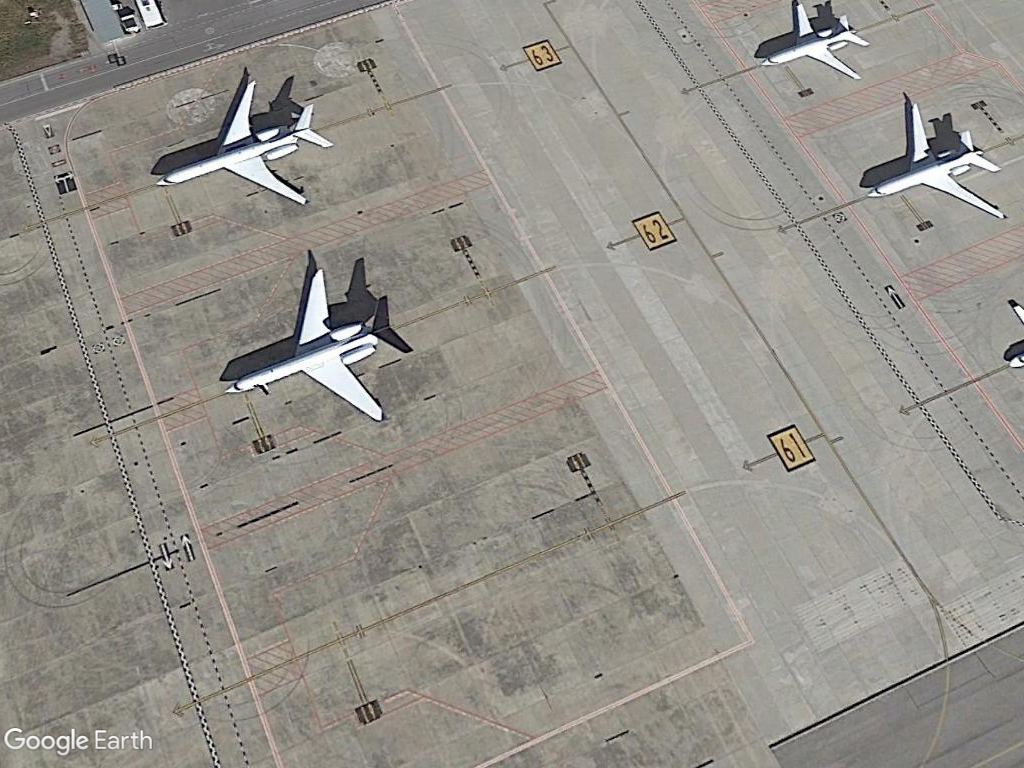chartered: (207, 267, 418, 426), (144, 72, 341, 215), (859, 95, 1015, 229), (755, 0, 875, 86)
